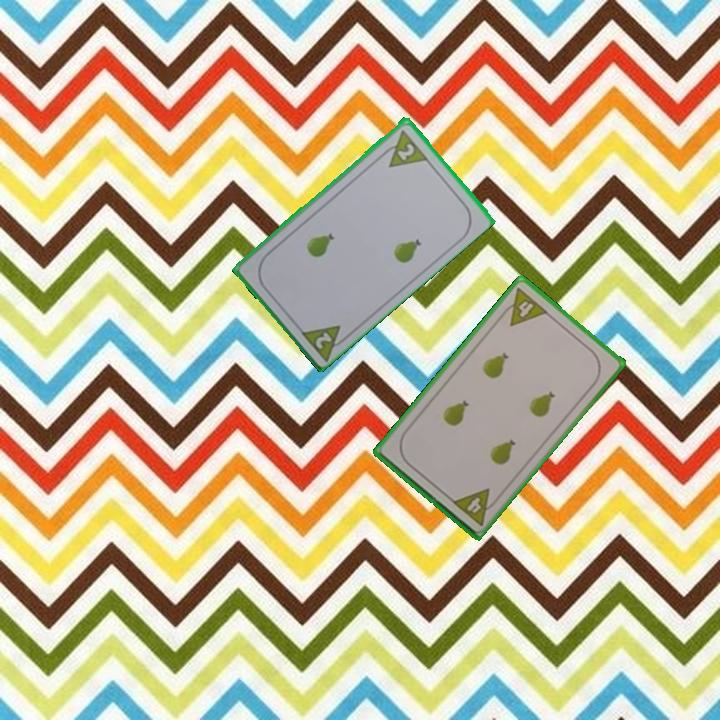2p: (296, 321, 353, 363), (376, 126, 430, 170)
4p: (496, 284, 551, 329), (448, 485, 502, 528)
